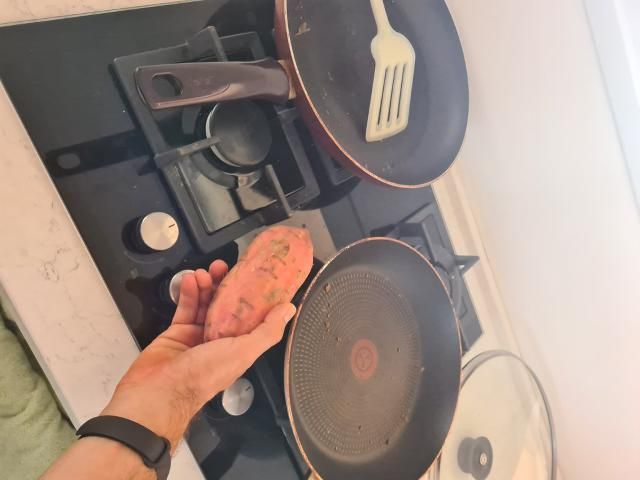sweet_potato: (201, 223, 312, 343)
